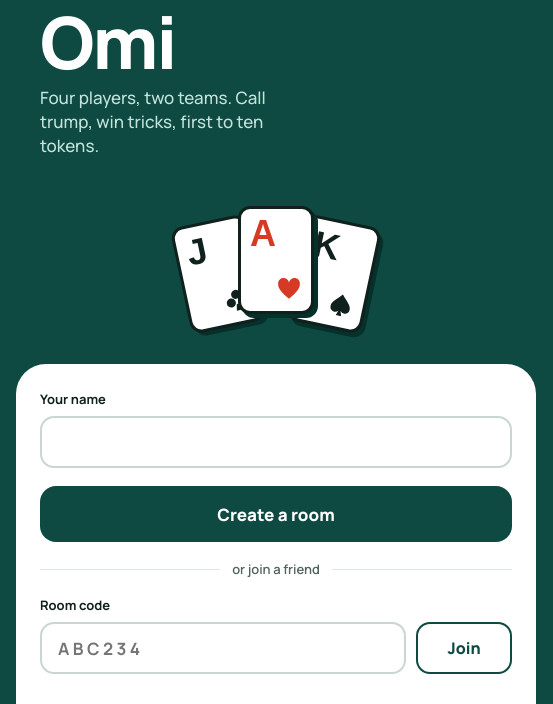
from the home screen › a refused join stays on the home screen with the reason
The width and height of the screenshot is (553, 704).
Type "Kamala" into the field labelled "Your name" at (276, 442), box [40, 416, 512, 468]
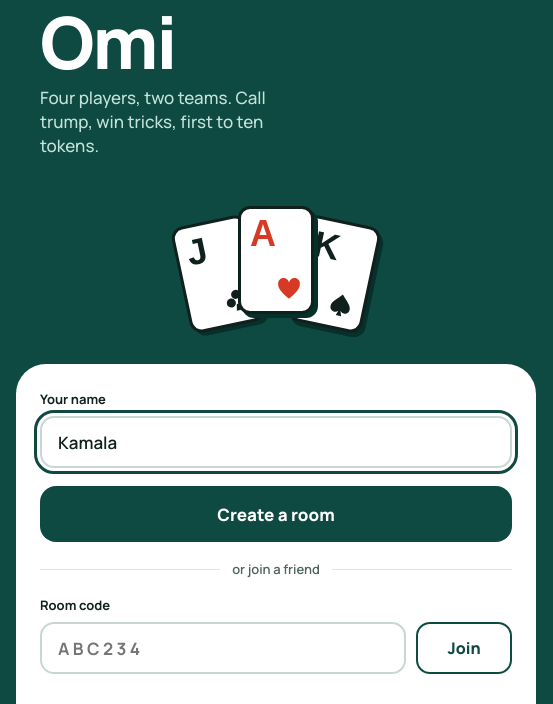
Type "KXT4P9" into the field labelled "Room code" at (223, 648), box [40, 622, 406, 674]
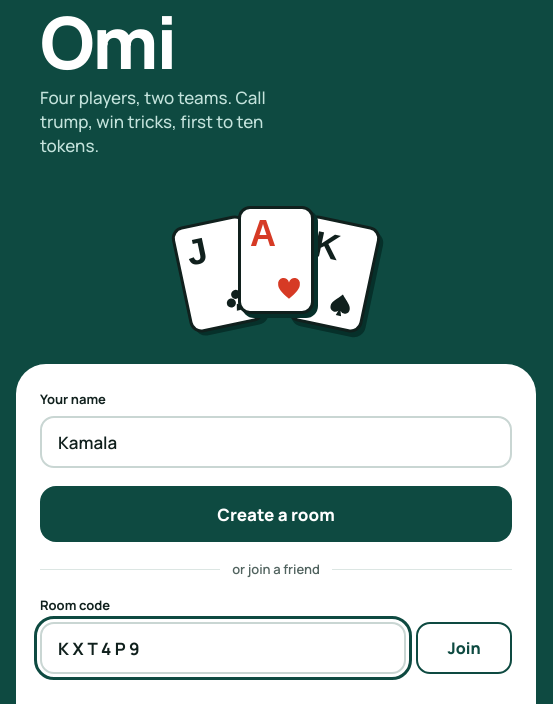
Click the button "Join" at (464, 648), box [416, 622, 512, 674]
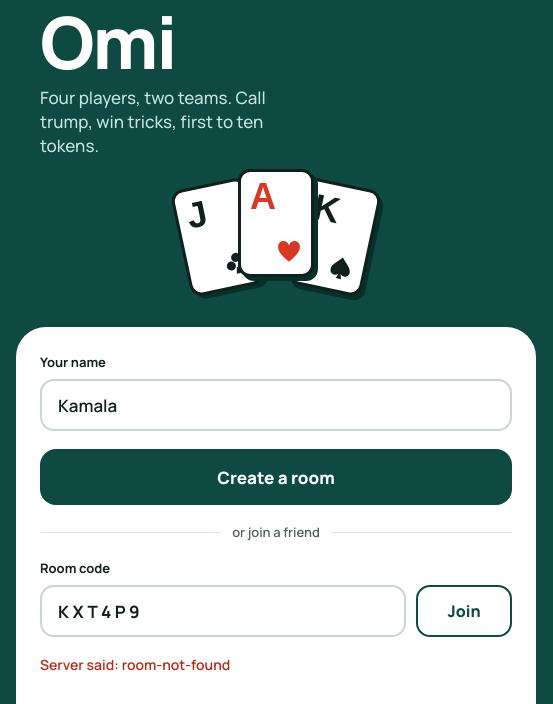
Expected: the message shows "room-not-found", [40, 655, 230, 674]
